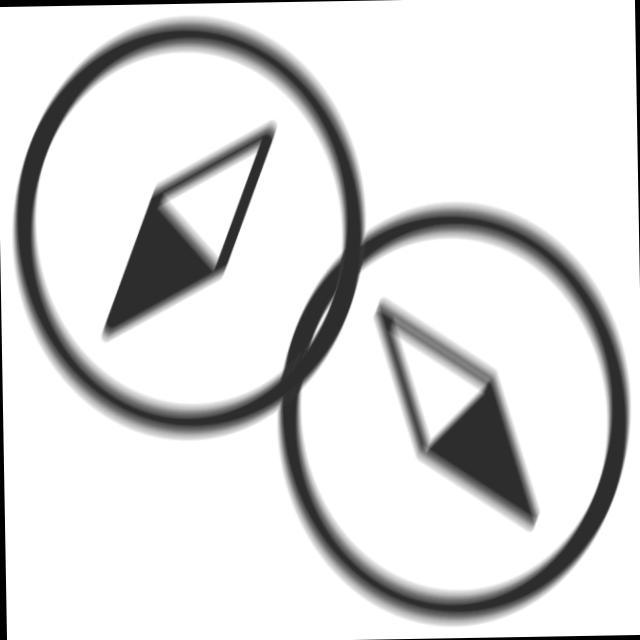compass: (261, 189, 640, 633), (6, 5, 382, 450)
